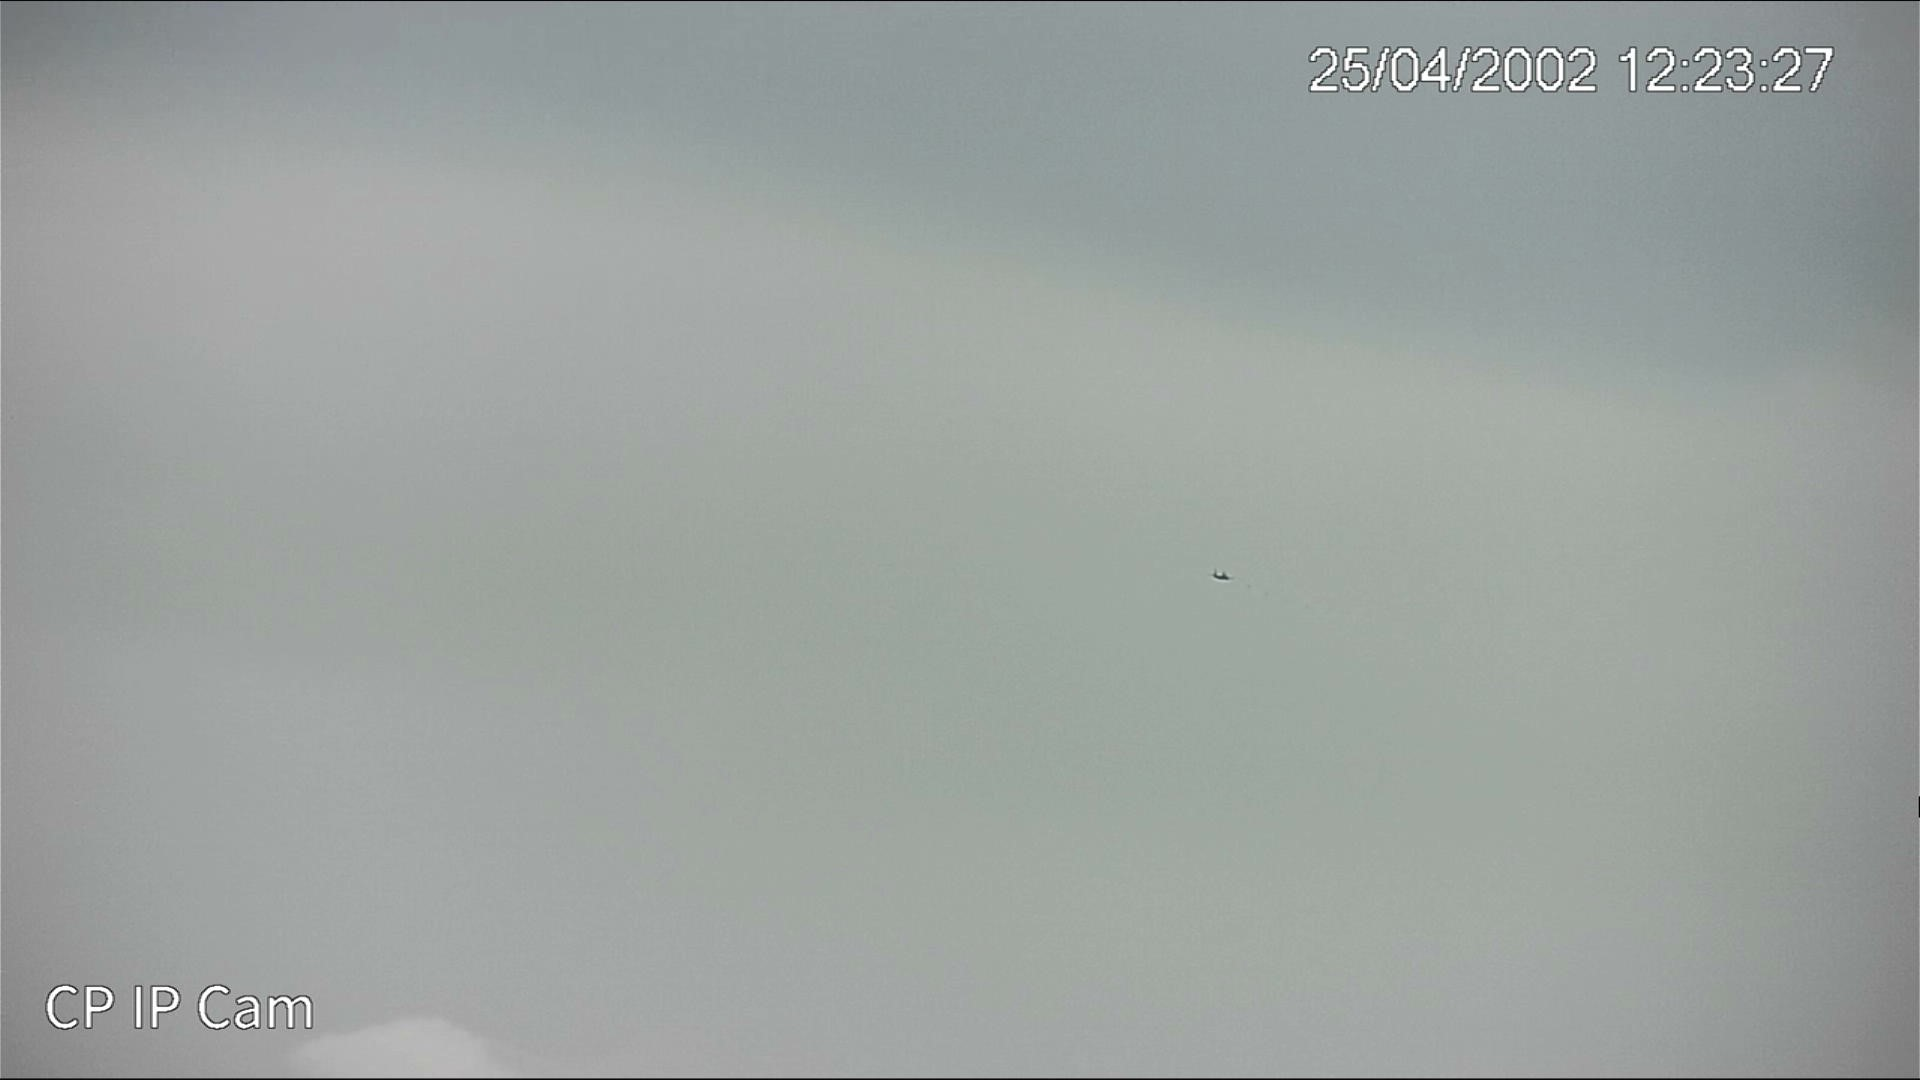SU_30: (1209, 570, 1232, 582)
